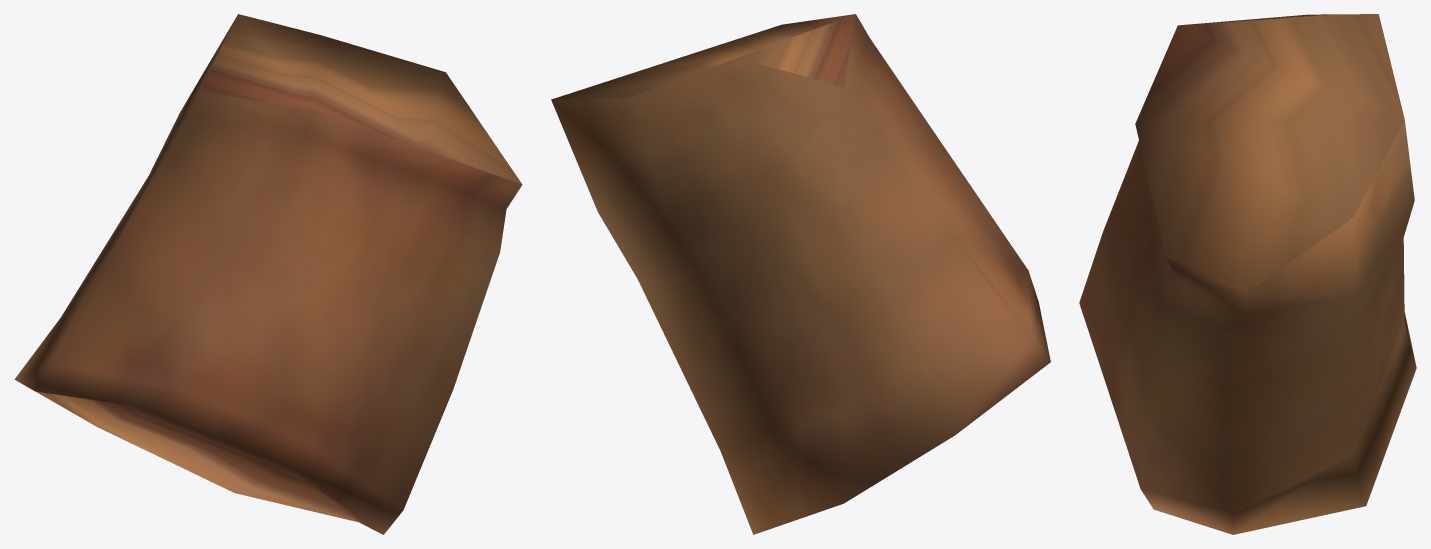
The model's file is pinky_02_l.dae.
The picture shows the model from 3 angles, left to right: view 1: azimuth 30°, elevation 25°; view 2: azimuth 150°, elevation 25°; view 3: azimuth 270°, elevation 25°; orthographic projection. The views are drawn at different scales.
Parts seen in each view (by area): view 1: pinky_2_l; view 2: pinky_2_l; view 3: pinky_2_l.
Boxes of the visible parts, <box> form: pinky_2_l: <box>14,14,522,534</box>; pinky_2_l: <box>551,14,1050,534</box>; pinky_2_l: <box>1079,14,1416,534</box>.
Bounding box in the file's own units: 0.026 × 0.0155 × 0.0252.
Materials: 1 (1 with a texture image).
